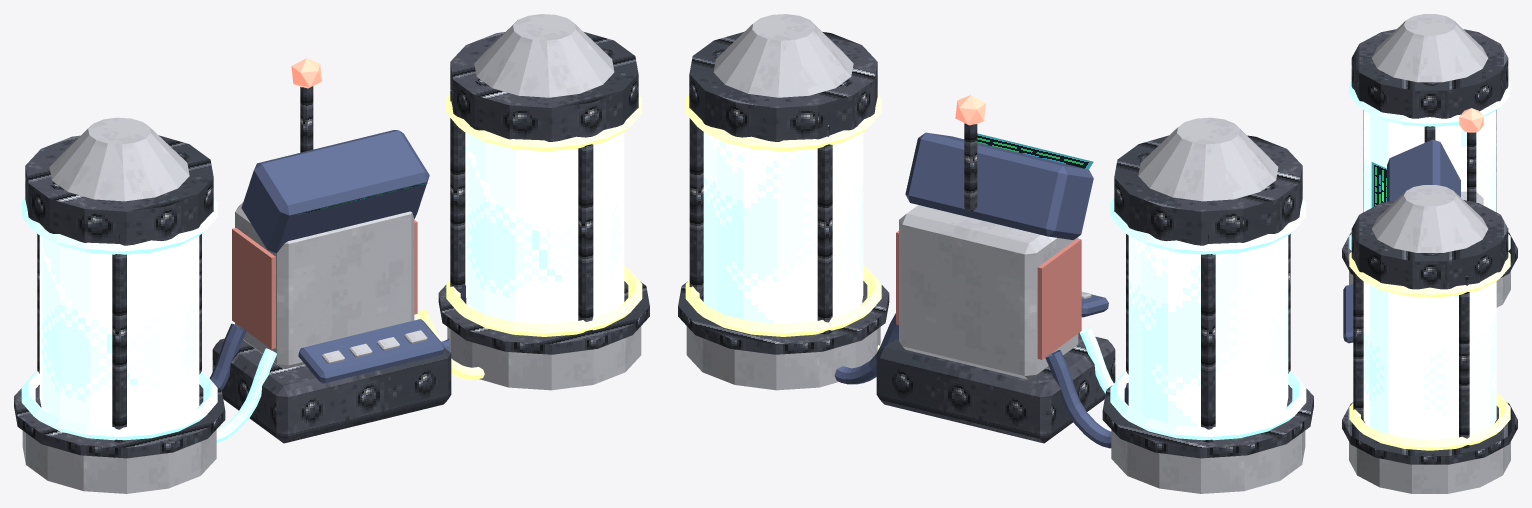
Rendered from billpc.glb.
The picture shows the model from 3 angles, left to right: view 1: azimuth 30°, elevation 25°; view 2: azimuth 150°, elevation 25°; view 3: azimuth 270°, elevation 25°; orthographic projection. The views are drawn at different scales.
Parts seen in each view (by area): view 1: Machine, Glass-1, Glass1, PodA, PodB, Cables, Lamp; view 2: Machine, Glass1, Glass-1, PodA, PodB, Cables, Display, Lamp; view 3: Machine, Glass1, Glass-1, PodB, PodA, Display, Lamp.
Boxes of the visible parts, x1,y1,x2,y2 form: Machine: (14, 14, 649, 493); Glass-1: (39, 236, 199, 426); Glass1: (465, 132, 624, 323); PodA: (21, 198, 217, 440); PodB: (446, 94, 642, 336); Cables: (209, 283, 484, 442); Lamp: (291, 58, 321, 88); Machine: (678, 14, 1313, 493); Glass1: (703, 132, 863, 323); Glass-1: (1128, 236, 1288, 426); PodA: (1110, 198, 1306, 440); PodB: (685, 94, 881, 336); Cables: (834, 313, 1128, 448); Display: (977, 133, 1093, 169); Lamp: (955, 95, 985, 125); Machine: (1342, 14, 1517, 493); Glass1: (1363, 281, 1496, 439); Glass-1: (1363, 110, 1496, 212); PodB: (1349, 252, 1510, 450); PodA: (1349, 81, 1510, 250); Display: (1371, 162, 1386, 207); Lamp: (1459, 108, 1483, 132).
Size of the model in its own units: 4.84 by 2.49 by 1.48.
9 materials, 4 textured.
